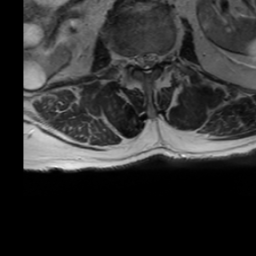CCS_normal: (143, 41, 151, 82)
LFS_normal: (159, 41, 168, 71)
LLS_normal: (151, 41, 159, 73)
RFS_normal: (125, 45, 134, 75)
RLS_normal: (134, 43, 143, 74)
